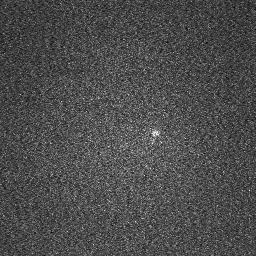dot: (150, 129, 160, 140)
